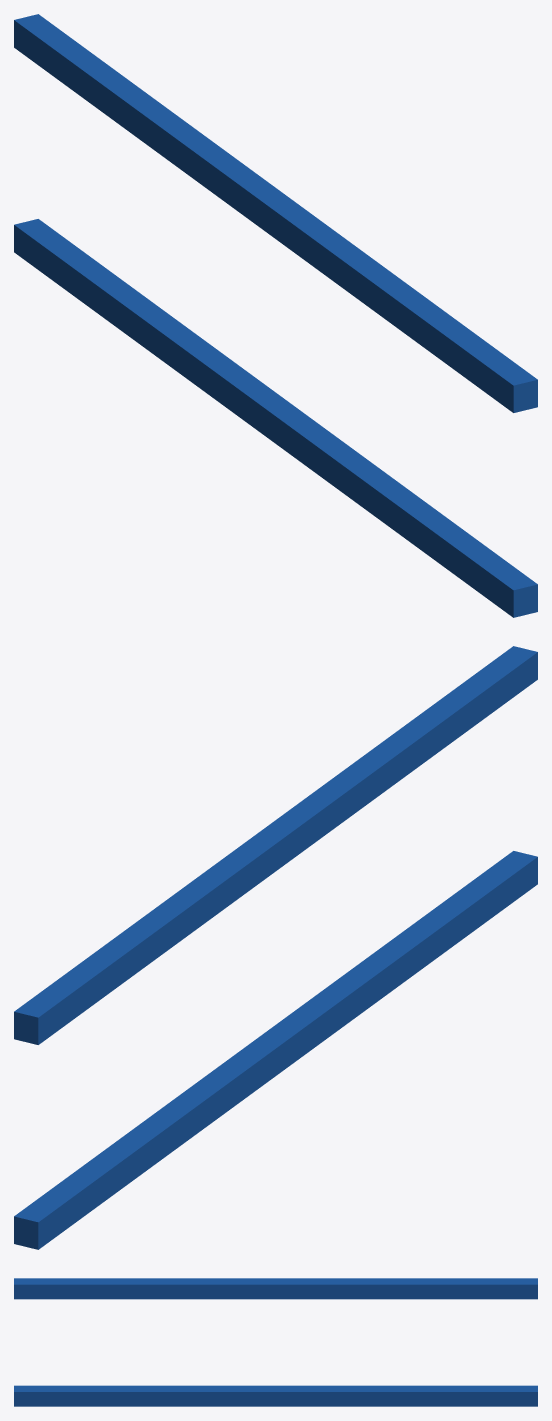
Rendered from gate_filler.glb.
3 renders of one model, top to bottom at view 1: azimuth 30°, elevation 25°; view 2: azimuth 150°, elevation 25°; view 3: azimuth 270°, elevation 25°, orthographic. The views are drawn at different scales.
Visible parts, largest first — view 1: EXPORT_gate_filler; view 2: EXPORT_gate_filler; view 3: EXPORT_gate_filler.
Boxes of the visible parts, box(x1,y1,x2,y2) form: EXPORT_gate_filler: box(14, 14, 537, 617); EXPORT_gate_filler: box(14, 646, 537, 1249); EXPORT_gate_filler: box(14, 1278, 537, 1406).
Size of the model in its own units: 0.065 by 0.59 by 2.3.
